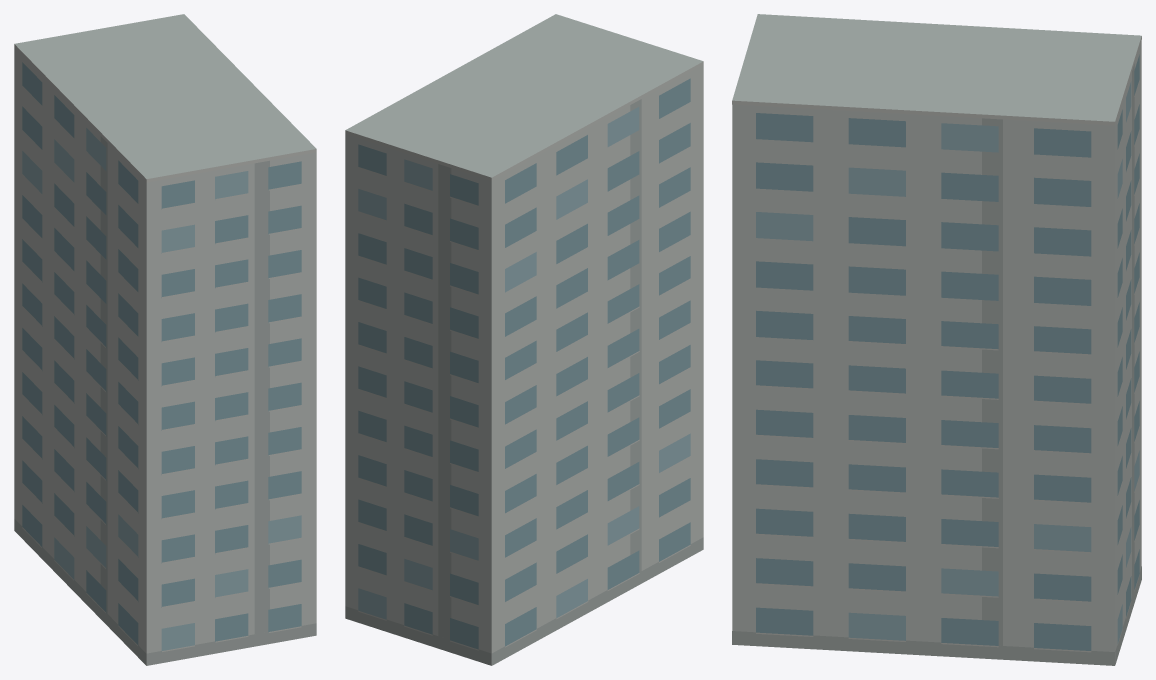
Rendered from residential-d86286a5-9499-40a2-863c-46e2e0806d41.glb.
3 renders of one model, left to right at view 1: azimuth 30°, elevation 25°; view 2: azimuth 150°, elevation 25°; view 3: azimuth 270°, elevation 25°, orthographic. The views are drawn at different scales.
Visible parts, largest first — view 1: residential-d86286a5-9499-40a2-863c-46e2e0806d41.tmp; view 2: residential-d86286a5-9499-40a2-863c-46e2e0806d41.tmp; view 3: residential-d86286a5-9499-40a2-863c-46e2e0806d41.tmp.
Boxes of the visible parts, x1=… form: residential-d86286a5-9499-40a2-863c-46e2e0806d41.tmp: x1=14, y1=14, x2=316, y2=665; residential-d86286a5-9499-40a2-863c-46e2e0806d41.tmp: x1=345, y1=14, x2=703, y2=665; residential-d86286a5-9499-40a2-863c-46e2e0806d41.tmp: x1=732, y1=14, x2=1141, y2=665.
Size of the model in its own units: 14.46 by 34 by 23.21.
